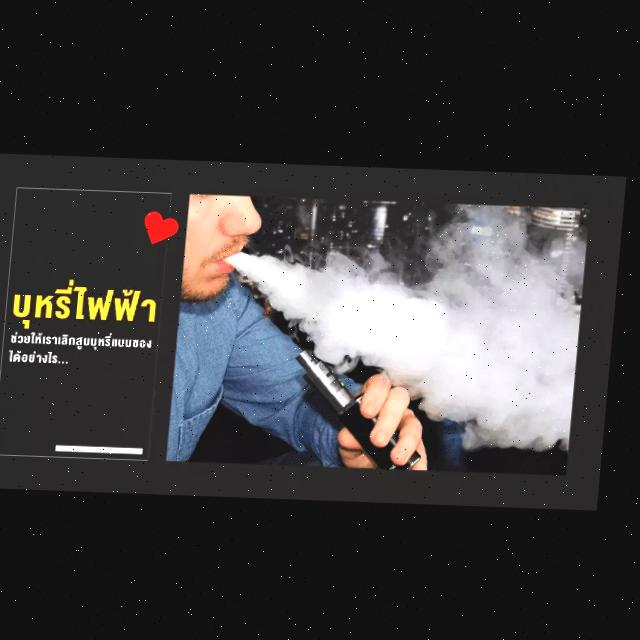vape: (294, 347, 436, 468)
